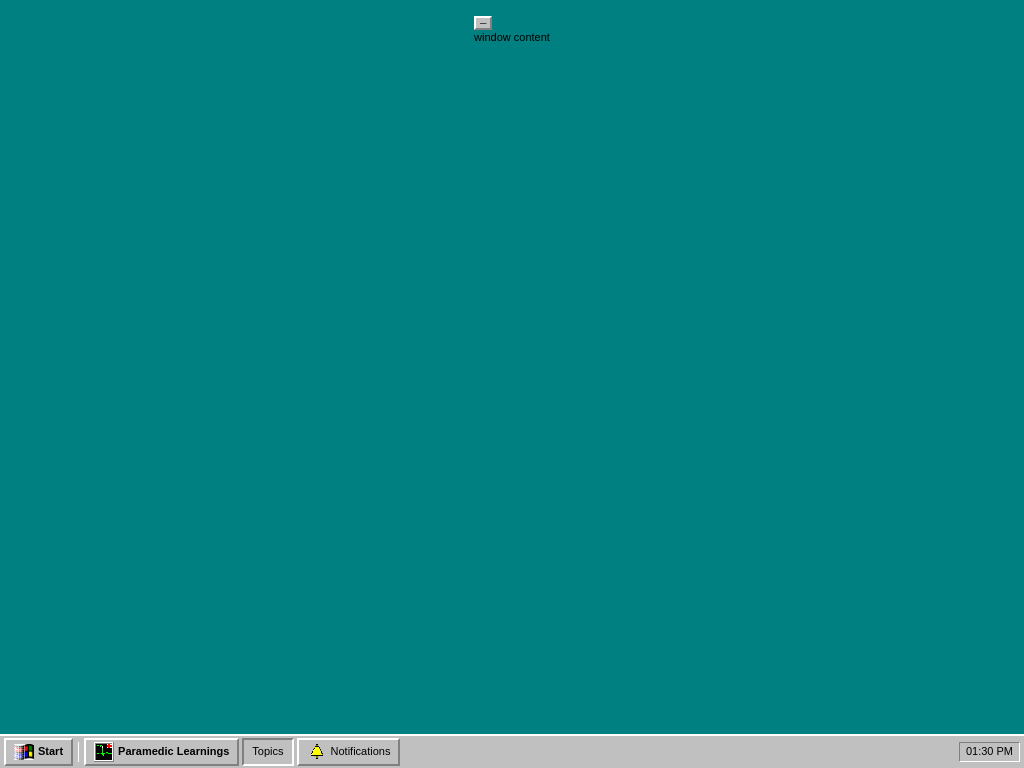
Test: Taskbar › clicking Topics restores the window when minimized
This screenshot has width=1024, height=768.
What coordinates should you click on to do the following:
click the button named "Minimize"
I would click on:
 (483, 23)
Its box is [474,16,492,30].
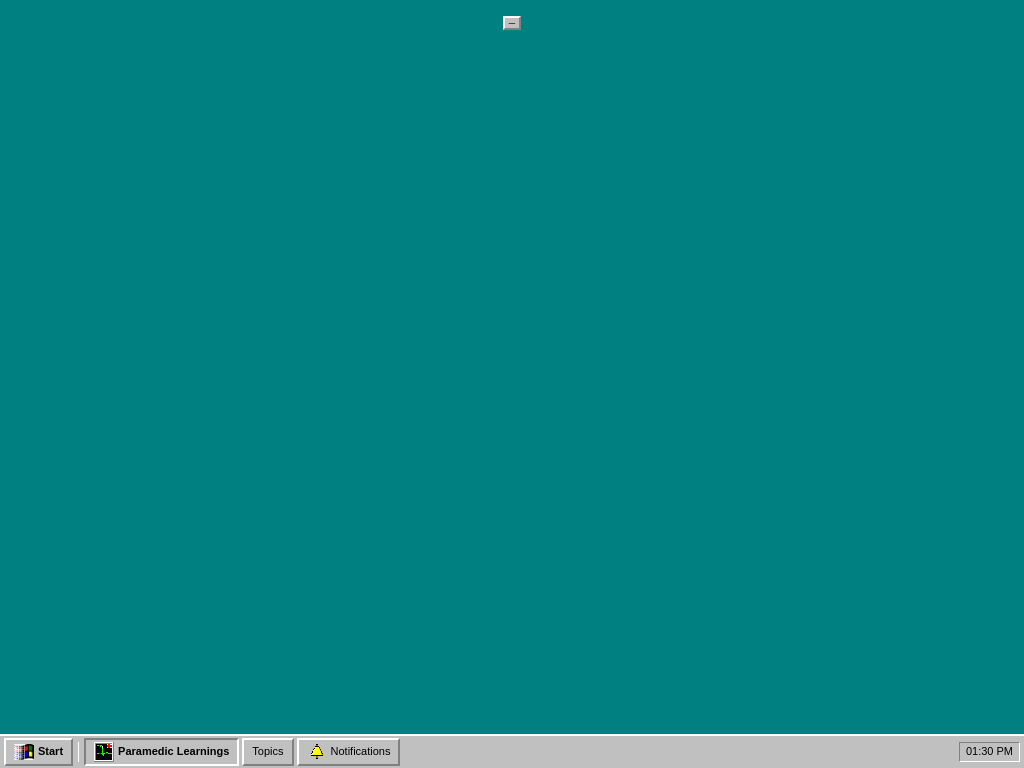
What coordinates should you click on to do the following:
click the link "Topics"
I would click on:
 (268, 752)
Its box is [242,738,294,766].
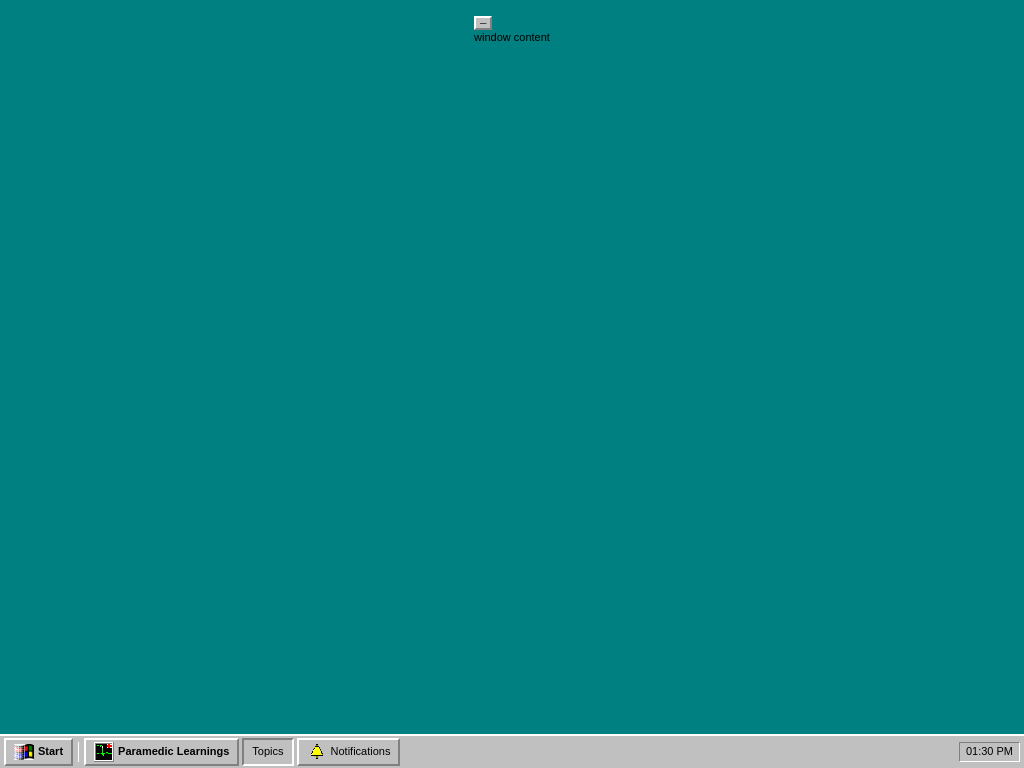
Now the text "window content" is shown, box [474,31,550,43]
